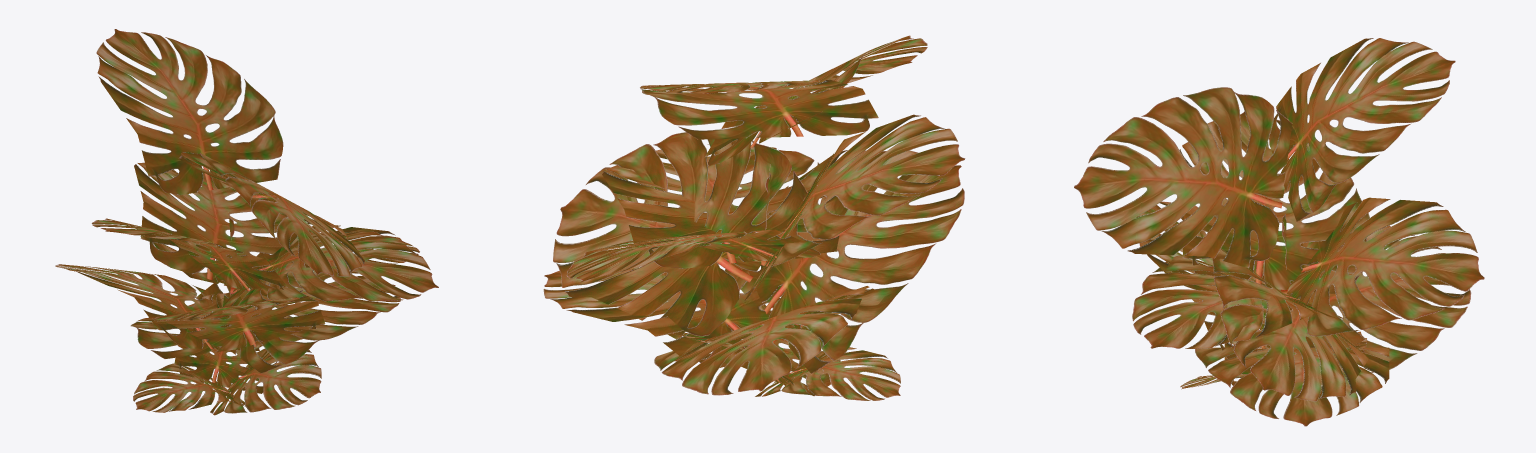
File: plante_1_2.FBX
3 renders of one model, left to right at view 1: azimuth 30°, elevation 25°; view 2: azimuth 150°, elevation 25°; view 3: azimuth 270°, elevation 25°, orthographic. The views are drawn at different scales.
Visible parts, largest first — view 1: Plane098; view 2: Plane098; view 3: Plane098.
Boxes of the visible parts, left/top/right/bottom form: Plane098: left=55, top=29, right=438, bottom=415; Plane098: left=543, top=35, right=965, bottom=400; Plane098: left=1074, top=38, right=1484, bottom=426.
Size of the model in its own units: 250 by 231 by 265.
